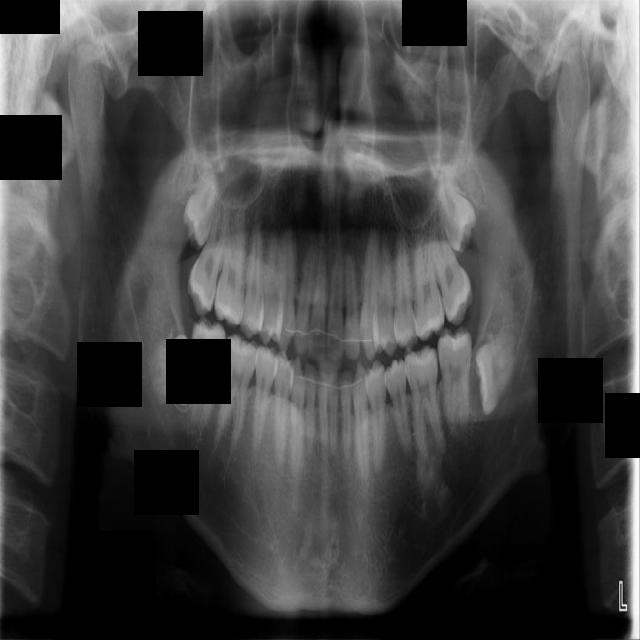3M ESPE Implant: (178, 160, 223, 249)
73: (608, 575, 614, 586)
BioHorizons Implant: (413, 194, 483, 329)
BioLife Implant: (428, 166, 485, 257)
Biomet 3i Implant: (472, 334, 523, 418)
Blue Sky Bio Implant: (437, 326, 471, 433)
Caries: (180, 189, 236, 321)
Implant: (186, 318, 227, 433)
Keystone Dental Implant: (145, 333, 193, 407)
